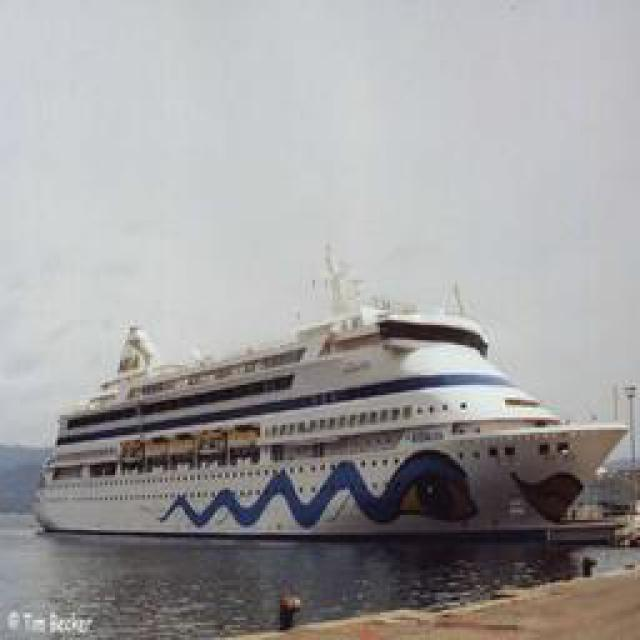Ship: (32, 301, 630, 549)
